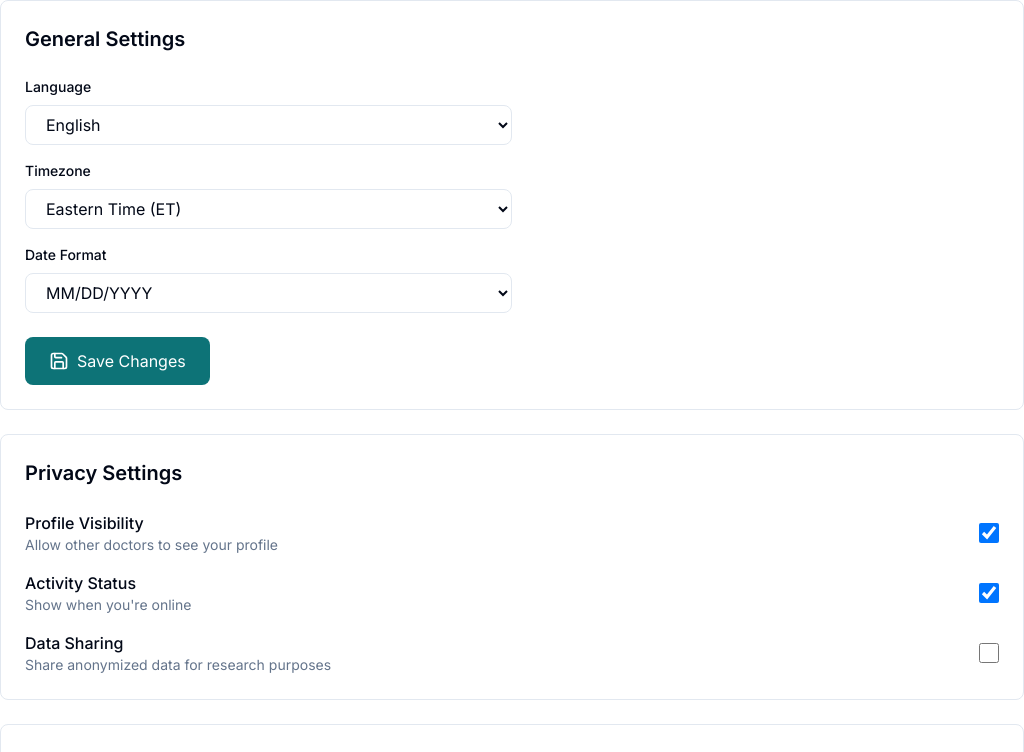
Test: AccountSettings › should show error message on save failure
This screenshot has width=1024, height=752.
Click the button "Save Changes". click: click(117, 361)
box: [25,337,210,385]
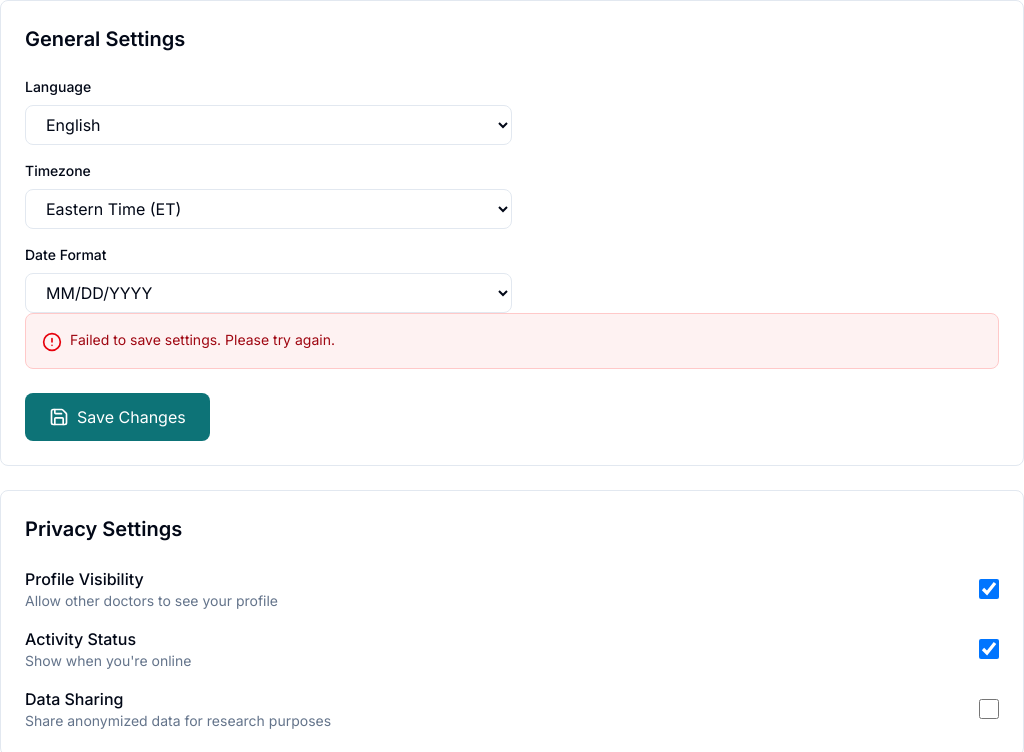
Now the text "Failed to save settings. Please try again." is shown, box [70,330,335,350]
